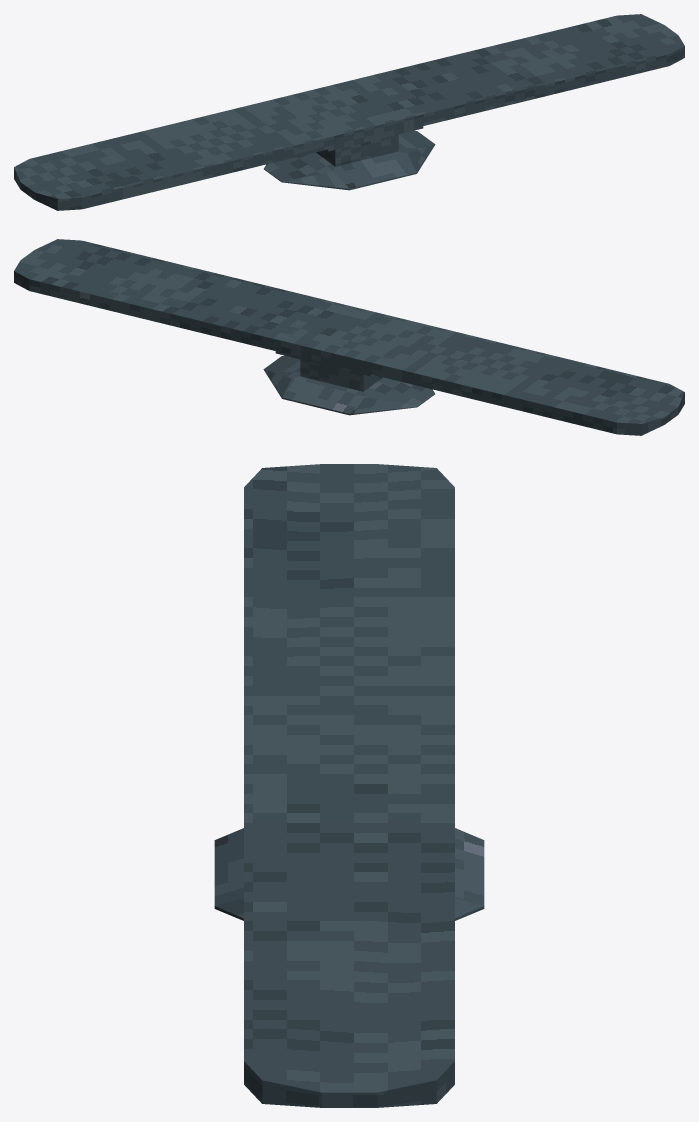
Rendered from Table.fbx.
The picture shows the model from 3 angles, top to bottom: view 1: azimuth 30°, elevation 25°; view 2: azimuth 150°, elevation 25°; view 3: azimuth 270°, elevation 25°; orthographic projection. The views are drawn at different scales.
Parts seen in each view (by area): view 1: TableRemesh; view 2: TableRemesh; view 3: TableRemesh.
Part boxes in pixels (<box>): TableRemesh: <box>14,14,684,210</box>; TableRemesh: <box>14,239,684,435</box>; TableRemesh: <box>214,464,484,1107</box>.
Bounding box in the file's own units: 2072 × 376 × 157.
Materials: 1 (1 with a texture image).
